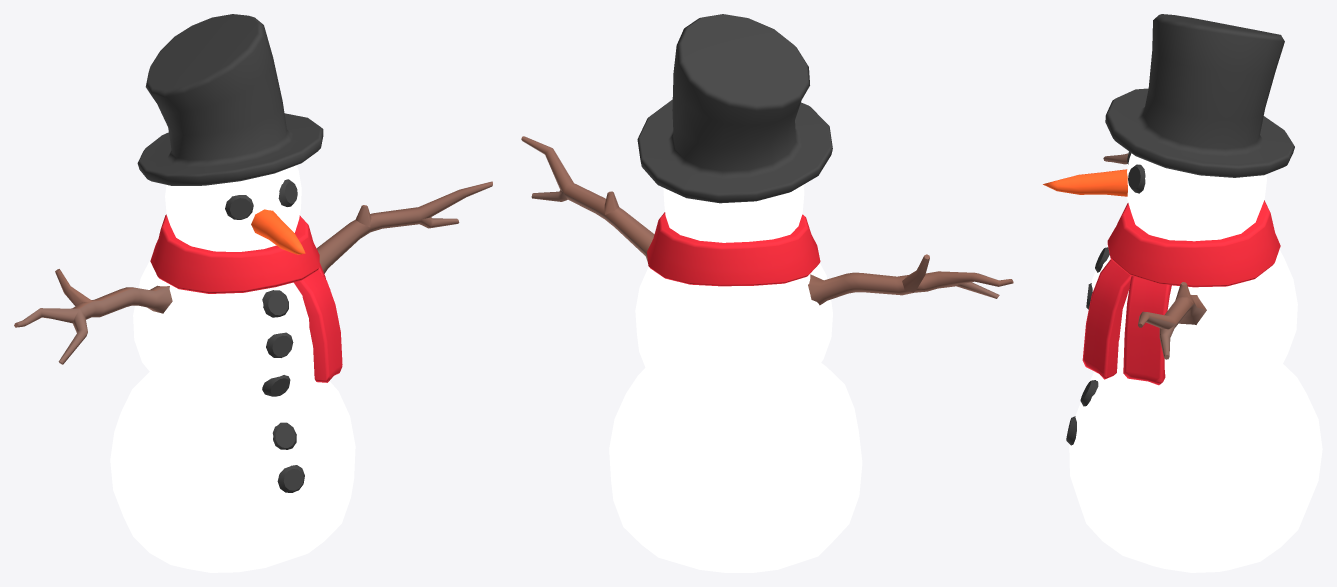
Rendered from snowman_001.glb.
The picture shows the model from 3 angles, left to right: view 1: azimuth 30°, elevation 25°; view 2: azimuth 150°, elevation 25°; view 3: azimuth 270°, elevation 25°; orthographic projection. The views are drawn at different scales.
Visible parts, largest first — view 1: snowman_001; view 2: snowman_001; view 3: snowman_001.
Boxes of the visible parts, x1,y1,x2,y2 form: snowman_001: [14, 14, 492, 572]; snowman_001: [521, 14, 1013, 572]; snowman_001: [1043, 14, 1322, 572].
Size of the model in its own units: 2.36 by 2.46 by 1.15.
2 materials, 2 textured.
